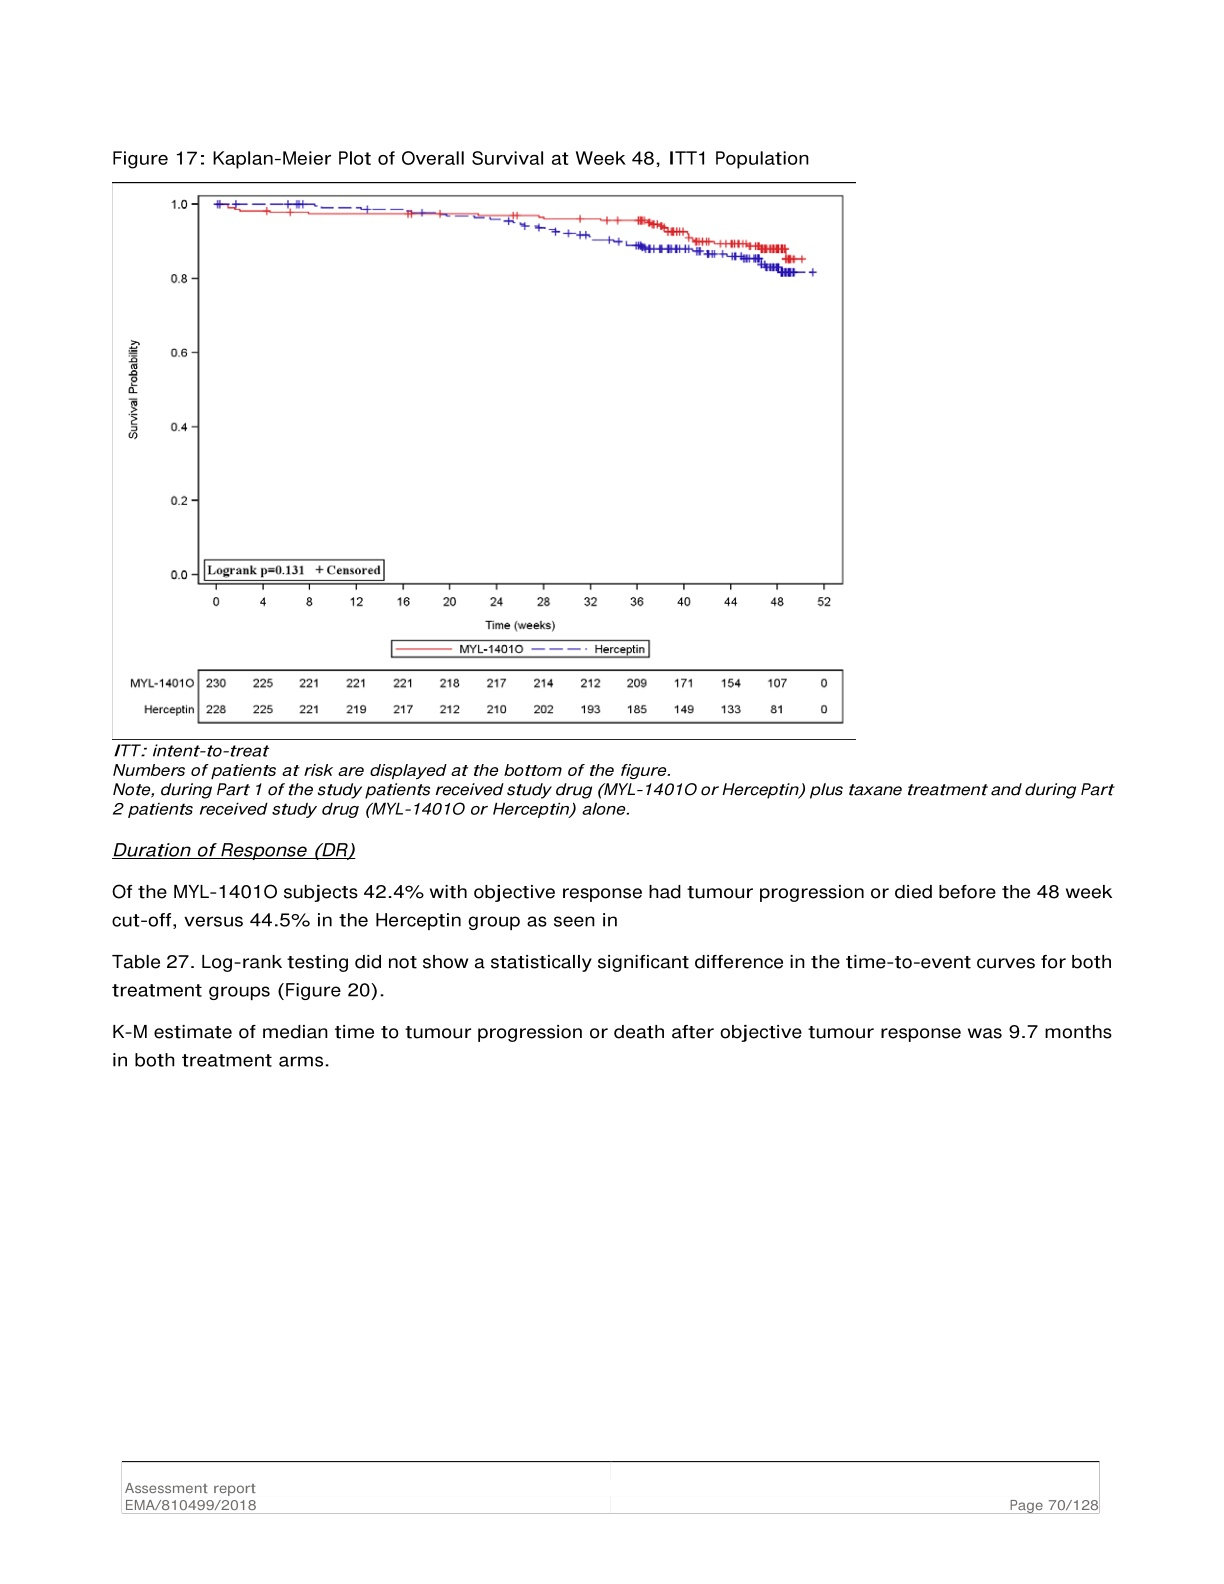partial_lined: (197, 669, 843, 725)
